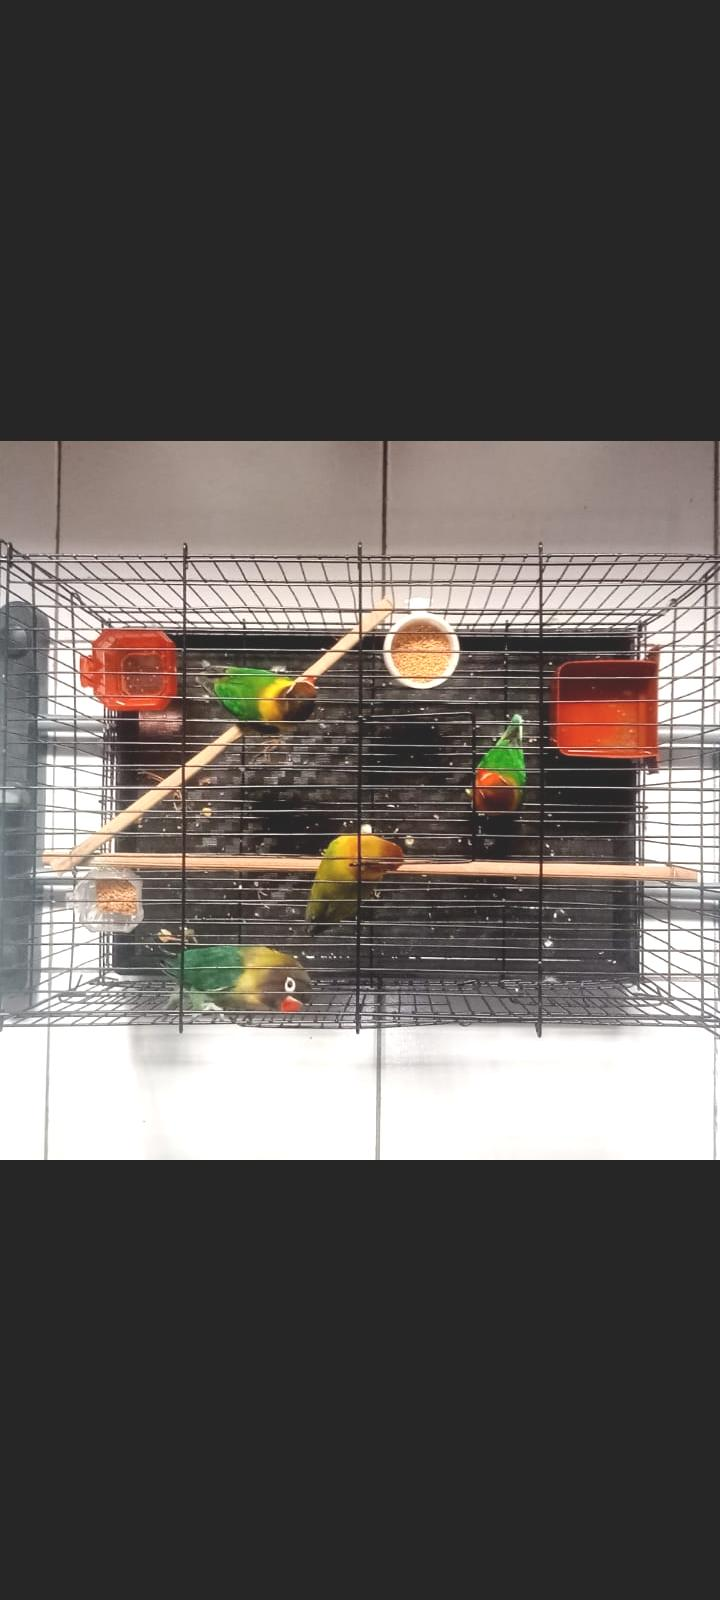LoveBird: (160, 944, 314, 1014), (303, 833, 403, 936), (195, 664, 317, 735), (472, 713, 526, 817)
